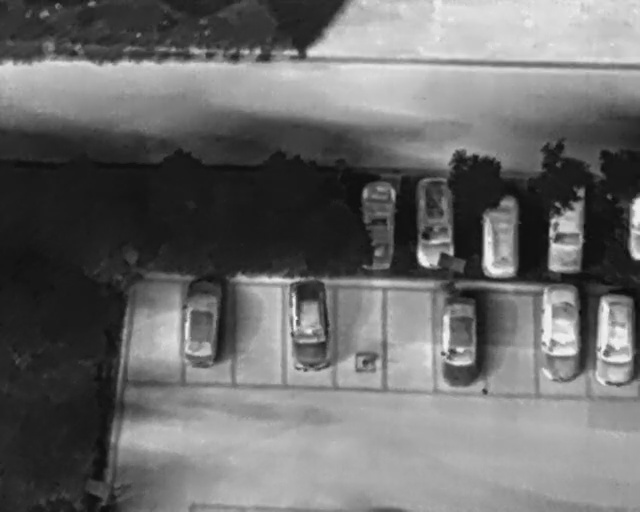Car: (178, 274, 225, 369), (289, 280, 334, 372), (594, 292, 636, 387), (542, 283, 581, 383), (417, 177, 456, 270), (548, 186, 585, 276), (443, 297, 478, 388), (484, 195, 521, 281), (362, 179, 393, 271)
